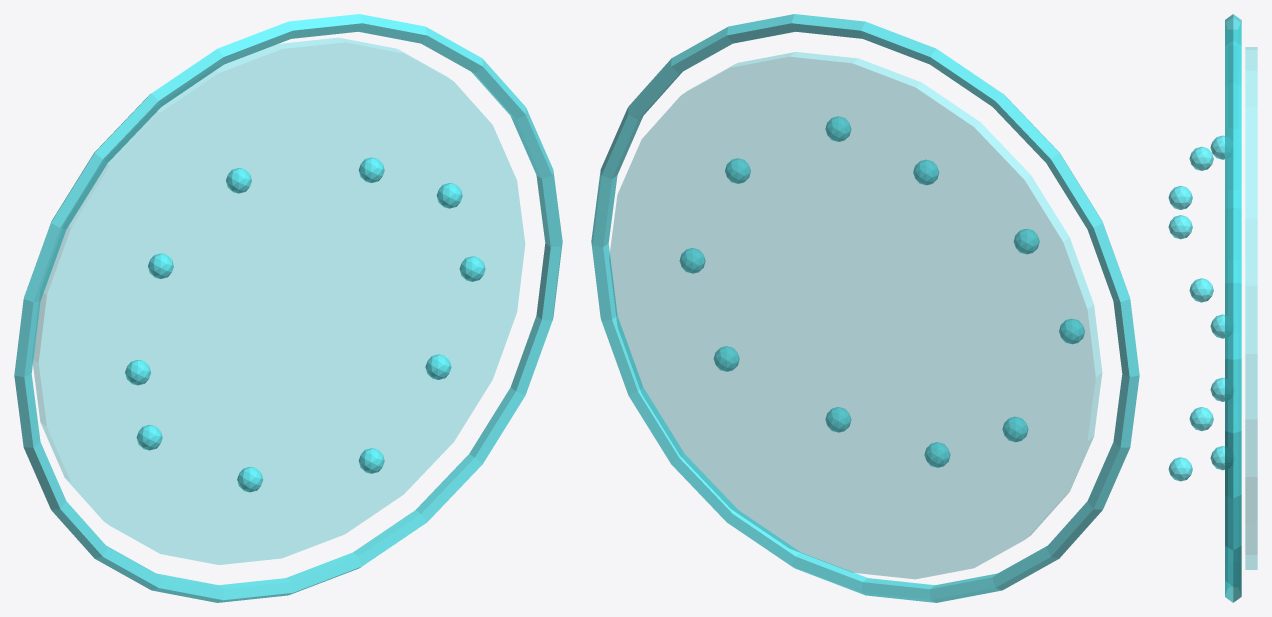
Rendered from 04_water_star_environment_overlay_4.glb.
The picture shows the model from 3 angles, left to right: view 1: azimuth 30°, elevation 25°; view 2: azimuth 150°, elevation 25°; view 3: azimuth 270°, elevation 25°; orthographic projection. The views are drawn at different scales.
Visible parts, largest first — view 1: environment_surface_disc, foam_or_star_ring; view 2: environment_surface_disc, foam_or_star_ring; view 3: foam_or_star_ring, environment_surface_disc, star_or_droplet_1, star_or_droplet_4, star_or_droplet_8, star_or_droplet_2, star_or_droplet_5, star_or_droplet_7, star_or_droplet_6, star_or_droplet_3, star_or_droplet_9, star_or_droplet_0.
Part boxes in pixels (x1=…): environment_surface_disc: x1=33, y1=38, x2=524, y2=564; foam_or_star_ring: x1=14, y1=14, x2=562, y2=602; environment_surface_disc: x1=609, y1=52, x2=1101, y2=578; foam_or_star_ring: x1=591, y1=14, x2=1139, y2=602; foam_or_star_ring: x1=1225, y1=14, x2=1241, y2=602; environment_surface_disc: x1=1245, y1=47, x2=1257, y2=569; star_or_droplet_1: x1=1189, y1=278, x2=1213, y2=302; star_or_droplet_4: x1=1189, y1=146, x2=1213, y2=170; star_or_droplet_8: x1=1168, y1=457, x2=1192, y2=481; star_or_droplet_2: x1=1168, y1=185, x2=1192, y2=209; star_or_droplet_5: x1=1168, y1=215, x2=1192, y2=239; star_or_droplet_7: x1=1189, y1=407, x2=1213, y2=431; star_or_droplet_6: x1=1210, y1=314, x2=1224, y2=338; star_or_droplet_3: x1=1210, y1=135, x2=1224, y2=159; star_or_droplet_9: x1=1210, y1=446, x2=1224, y2=470; star_or_droplet_0: x1=1210, y1=377, x2=1224, y2=401.
Bounding box in the file's own units: 1.69 × 1.69 × 0.2545.
